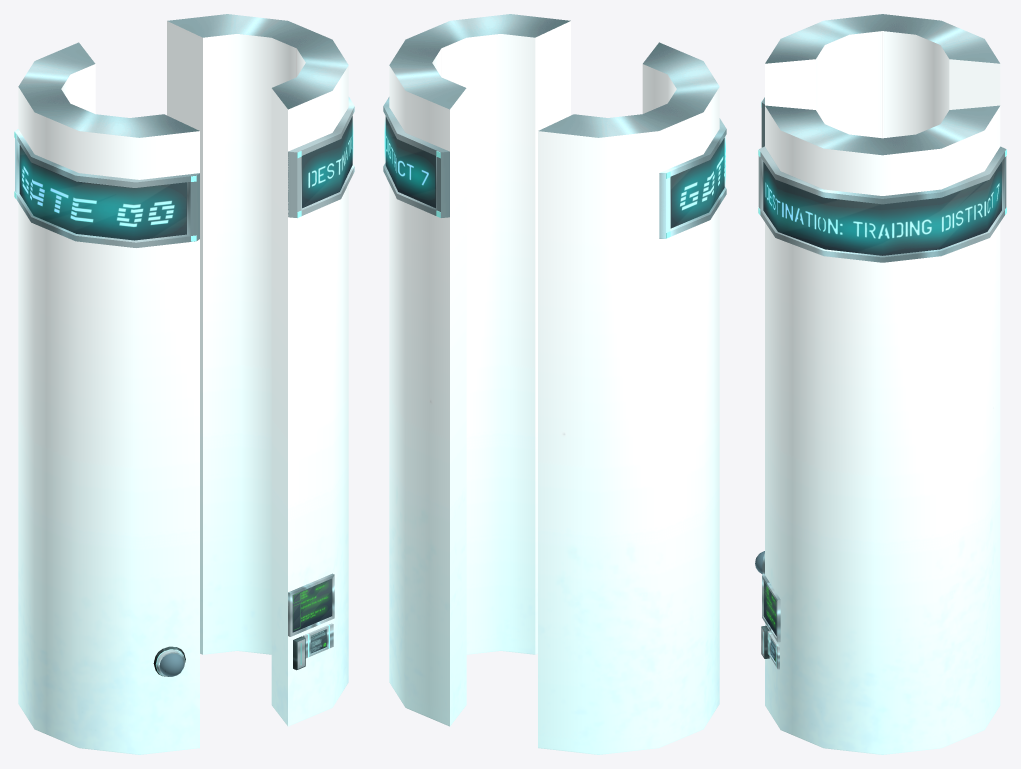
Rendered from futuristic_white.glb.
The picture shows the model from 3 angles, left to right: view 1: azimuth 30°, elevation 25°; view 2: azimuth 150°, elevation 25°; view 3: azimuth 270°, elevation 25°; orthographic projection. The views are drawn at different scales.
Parts seen in each view (by area): view 1: Portal_Futuristic-White-, Portal_Futuristic-White-Decals-; view 2: Portal_Futuristic-White-, Portal_Futuristic-White-Decals-; view 3: Portal_Futuristic-White-, Portal_Futuristic-White-Decals-.
Boxes of the visible parts, x1=… form: Portal_Futuristic-White-: x1=14, y1=14, x2=354, y2=754; Portal_Futuristic-White-Decals-: x1=20, y1=126, x2=353, y2=652; Portal_Futuristic-White-: x1=383, y1=14, x2=726, y2=754; Portal_Futuristic-White-Decals-: x1=384, y1=123, x2=725, y2=216; Portal_Futuristic-White-: x1=755, y1=14, x2=1006, y2=754; Portal_Futuristic-White-Decals-: x1=764, y1=179, x2=1000, y2=660.
Bounding box in the file's own units: 2.41 × 4.6 × 1.75.
2 materials, 2 textured.
